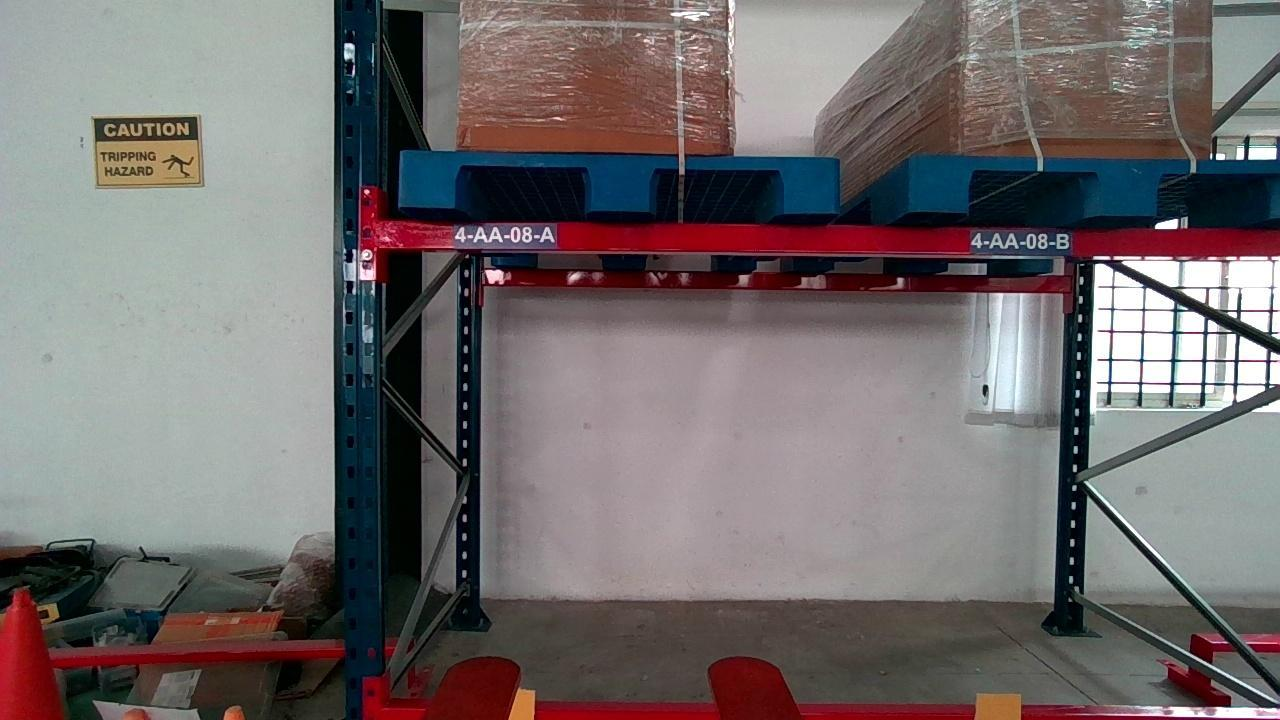h_rack: (380, 219, 1280, 253)
small_pallet: (399, 154, 839, 213), (910, 152, 1277, 219)
